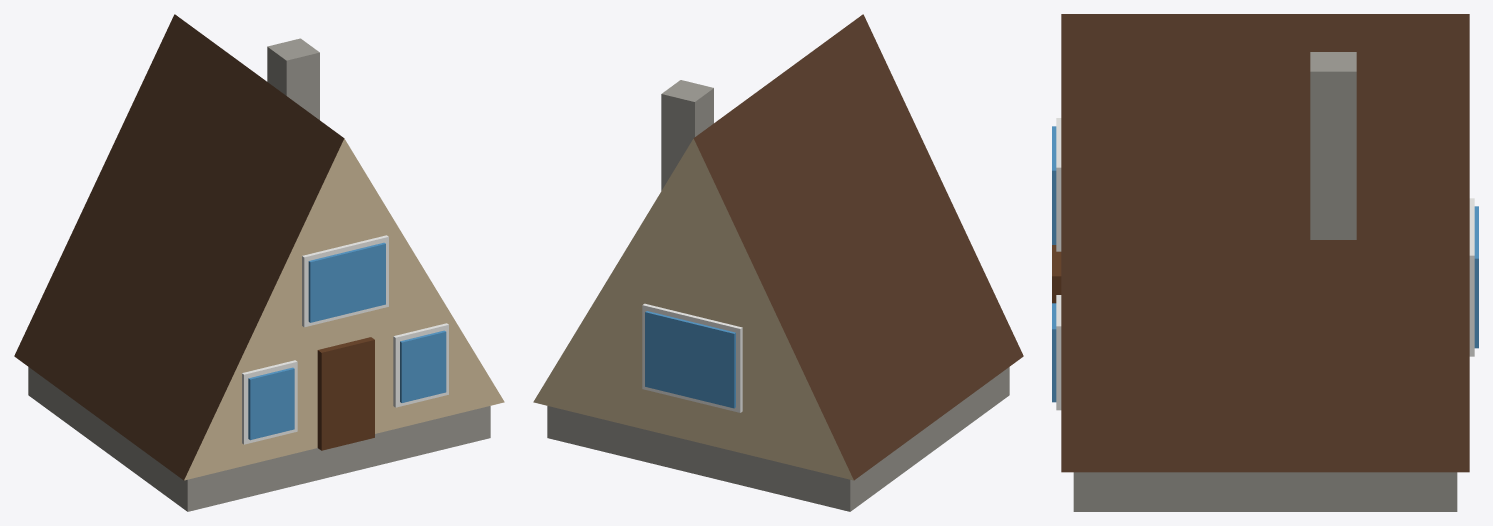
File: 05_alpine_chalet_2.obj
3 views of the same model, side by side, from view 1: azimuth 30°, elevation 25°; view 2: azimuth 150°, elevation 25°; view 3: azimuth 270°, elevation 25° (orthographic). The views are drawn at different scales.
Parts seen in each view (by area): view 1: 05_alpine_chalet_2; view 2: 05_alpine_chalet_2; view 3: 05_alpine_chalet_2.
Part boxes in pixels (x1,y1,x2,y2): 05_alpine_chalet_2: (14, 14, 504, 511); 05_alpine_chalet_2: (533, 14, 1023, 511); 05_alpine_chalet_2: (1052, 14, 1478, 511).
Size of the model in its own units: 1.44 by 1.46 by 1.38.
